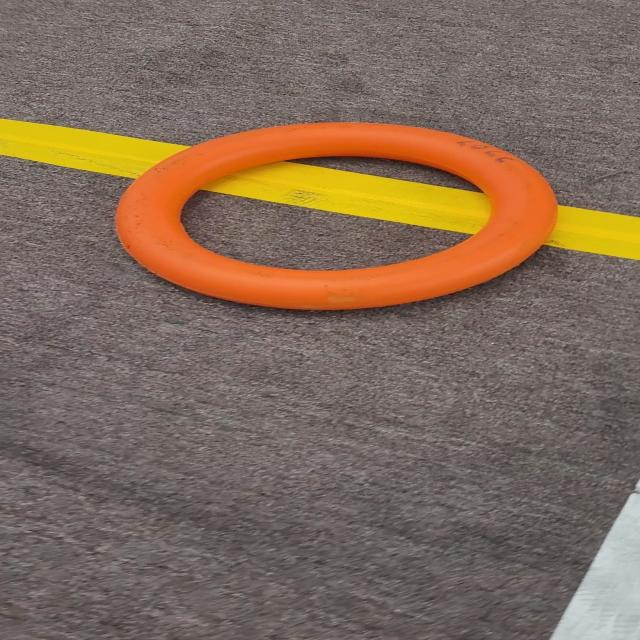note: (106, 118, 574, 326)
